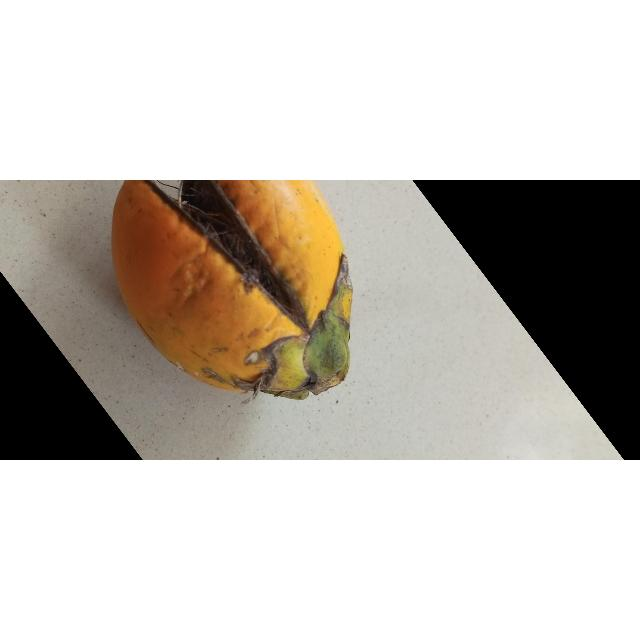damaged: (111, 180, 351, 401)
